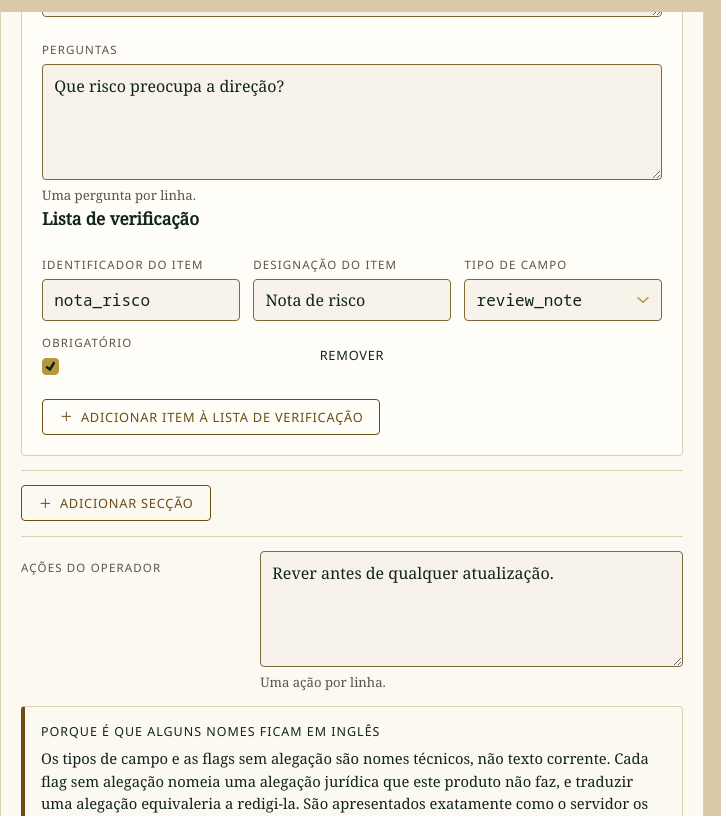
DPIA model editor — the submit gate › refuses two checklist items sharing an identifier inside one section
Step 1. Click the button "Adicionar item à lista de verificação" → (211, 417), box 42,399 -> 380,435
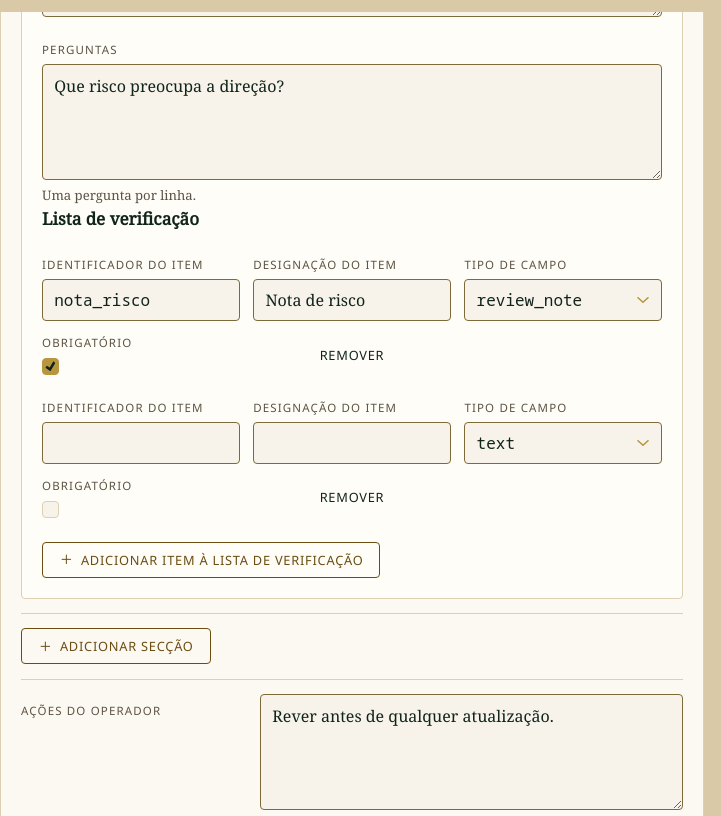
Step 2. Type "Outra" into the field with id "dpia-template-section-0-item-1-label" → (352, 443), box 253,422 -> 451,464
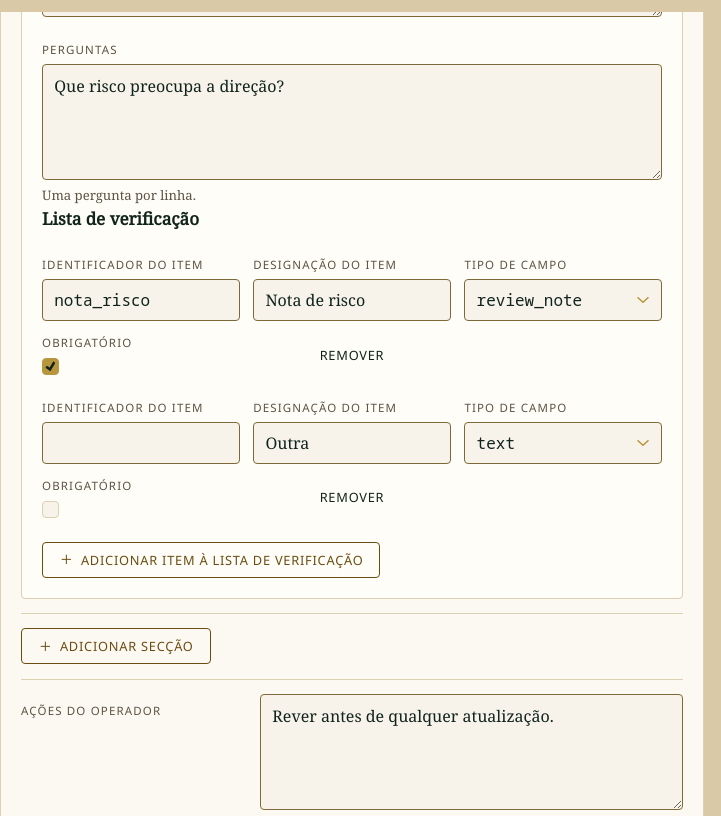
Step 3. Type "nota_risco" into the field with id "dpia-template-section-0-item-1-id" → (141, 443), box 42,422 -> 240,464
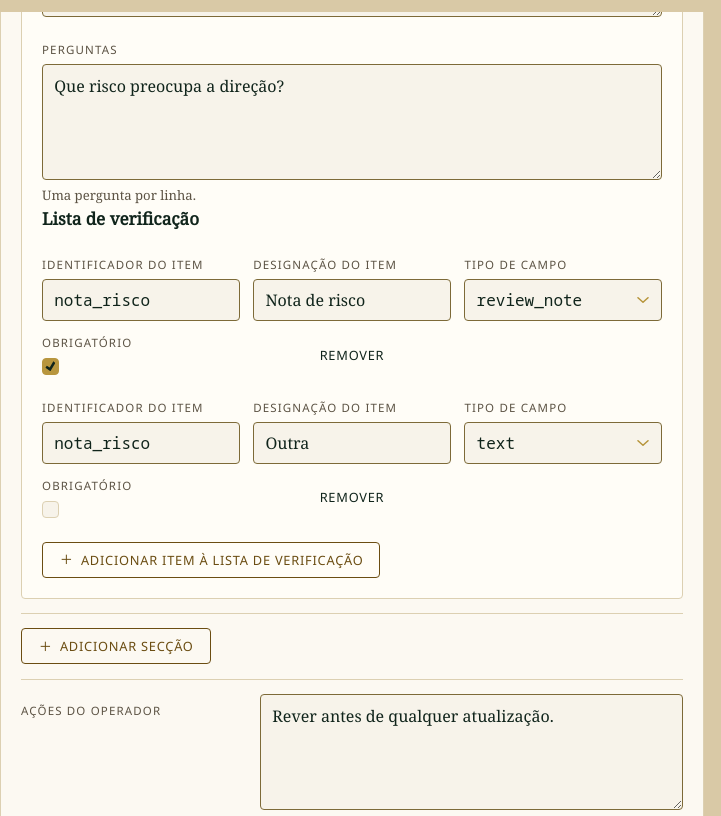
# The same id in a DIFFERENT section is fine: item ids are scoped to their section.
Step 4. Replace the text in the field with id "dpia-template-section-0-item-1-id" with "nota_2" → (141, 443), box 42,422 -> 240,464
(page scrolled)
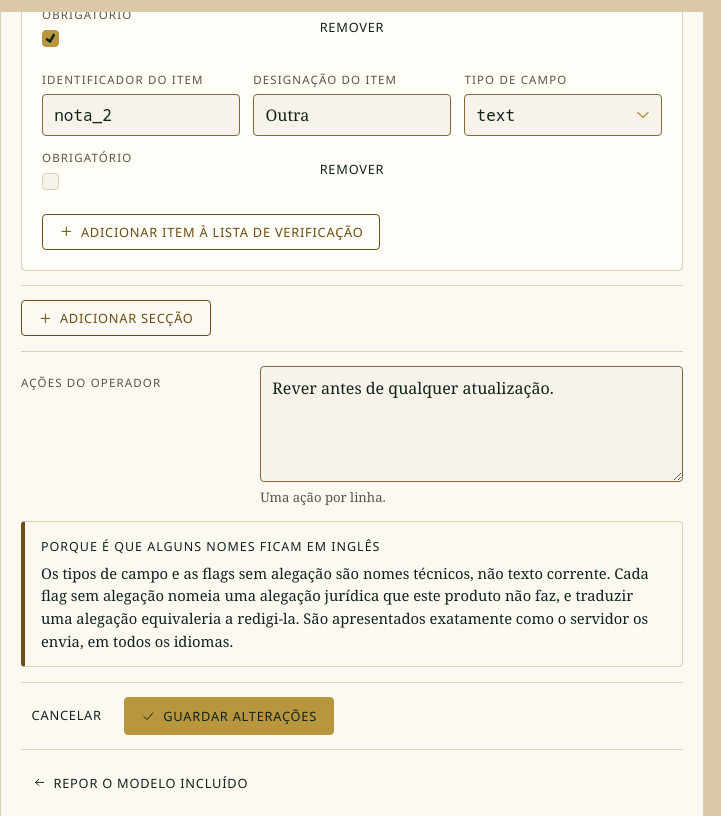
Result: the button "Guardar alterações" is enabled at 124,697 -> 334,735
